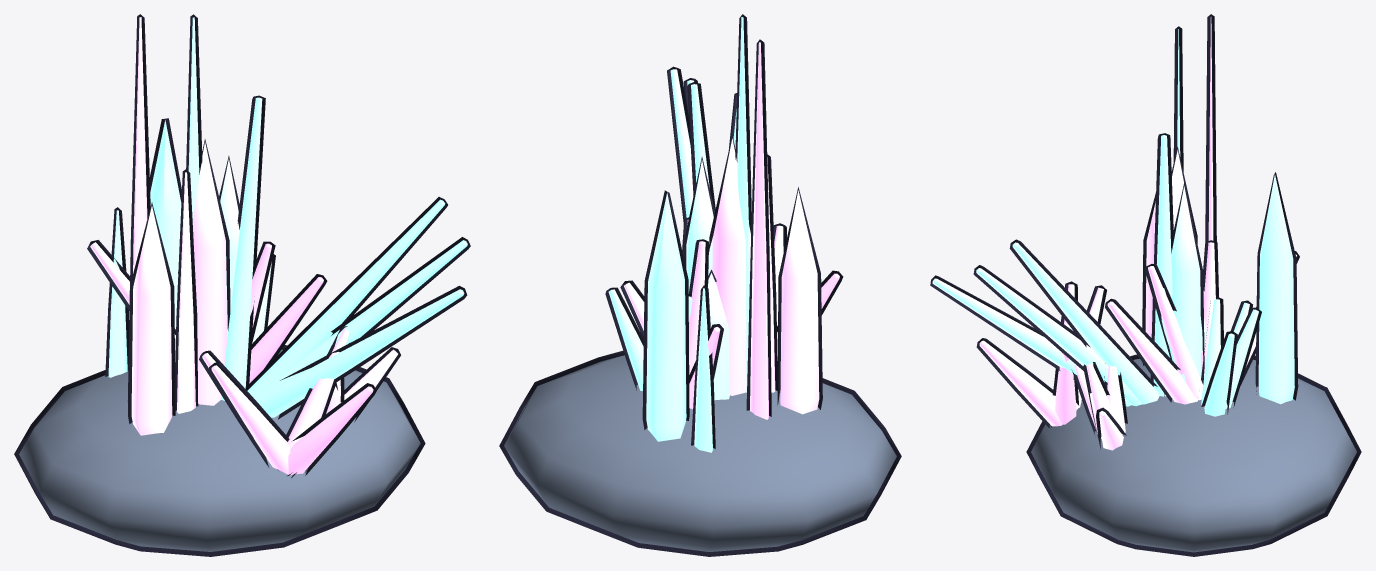
The model's file is coral_2.glb.
The picture shows the model from 3 angles, left to right: view 1: azimuth 30°, elevation 25°; view 2: azimuth 150°, elevation 25°; view 3: azimuth 270°, elevation 25°; orthographic projection. The views are drawn at different scales.
Visible parts, largest first — view 1: Coral; view 2: Coral; view 3: Coral.
Part boxes in pixels (box(x1,y1,x2,y2)): Coral: box(14, 14, 470, 556); Coral: box(499, 14, 901, 556); Coral: box(930, 14, 1361, 556).
Size of the model in its own units: 3.44 by 4.64 by 3.81.
